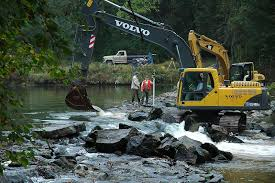excavator: (73, 2, 267, 139)
